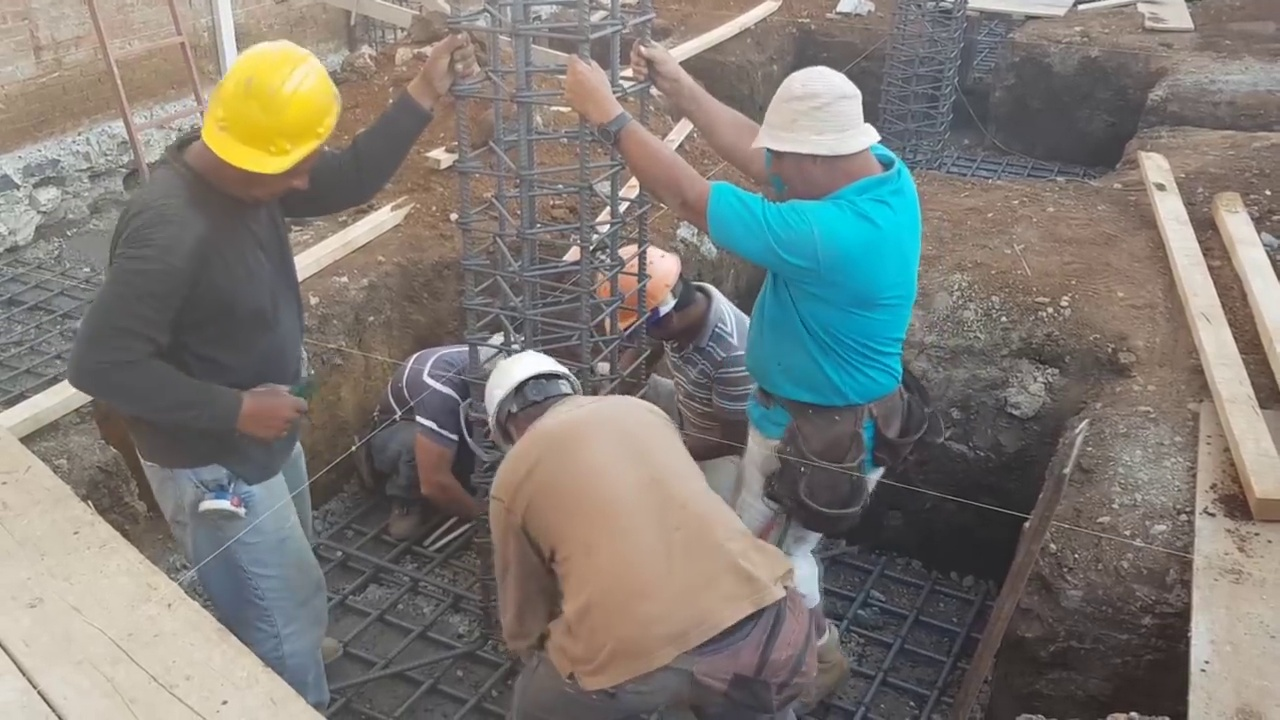helmet: (199, 39, 343, 179), (598, 232, 682, 331), (491, 351, 580, 441)
helmet-off: (747, 65, 891, 201)
helmet-on: (177, 36, 350, 216), (599, 234, 715, 344), (488, 350, 582, 454)
person: (63, 32, 490, 715), (566, 39, 923, 712), (492, 344, 820, 719), (597, 240, 754, 477), (372, 343, 489, 540)
